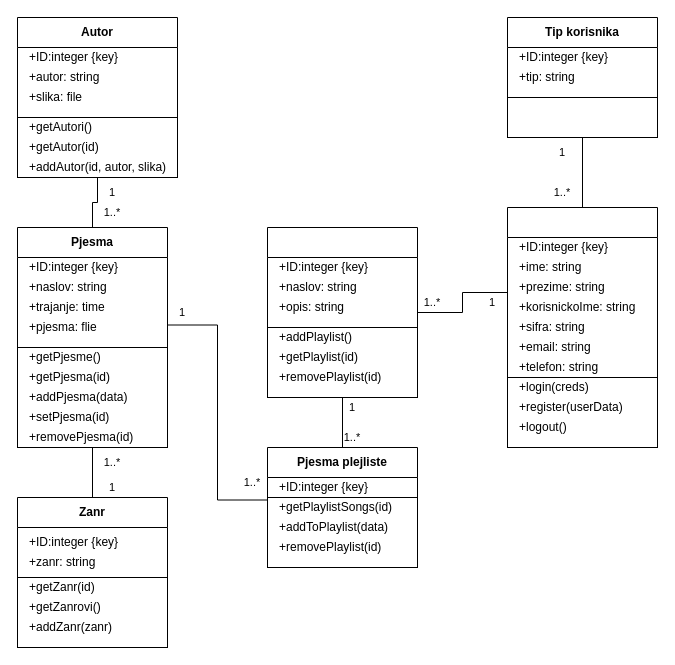
The diagram is 675 pixels wide and 665 high, and some of its shapes have lost their labels. Here are the shapes that lost their labels. From the top down, the box of each, then its label:
(266, 226, 418, 398): Plejlista
(506, 206, 658, 378): Korisnik
